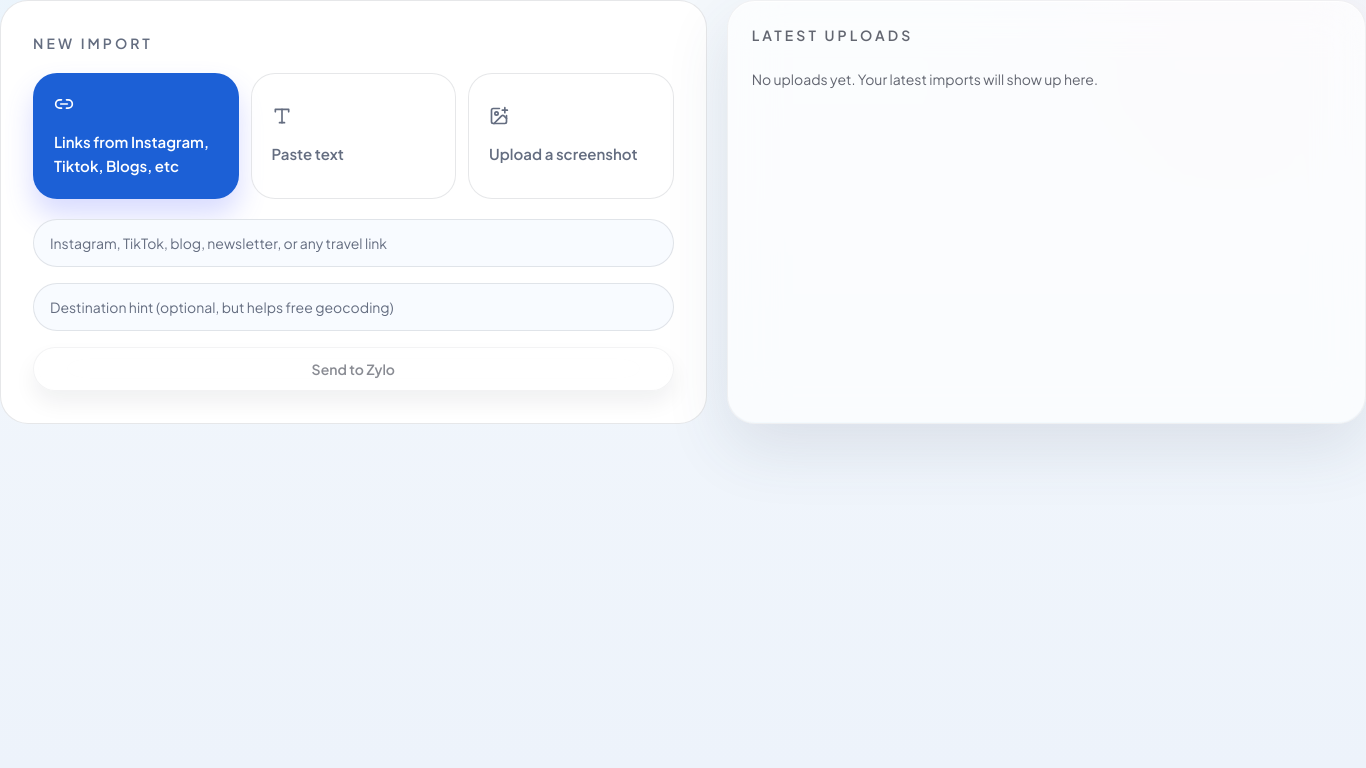
Test: ImportWorkbench › submits imports and shows the success state
Click the button "Paste text" at x=353, y=136, box [250,73,456,199]
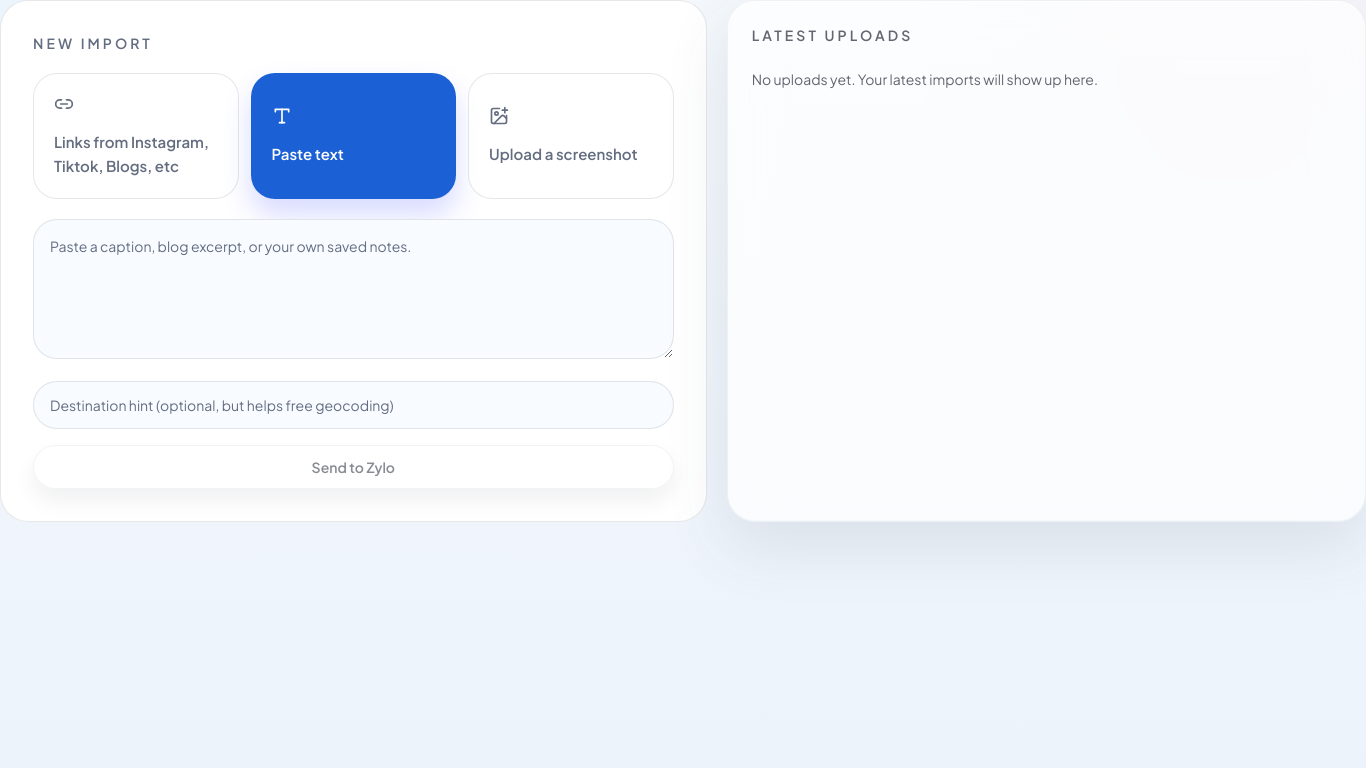
Type "Kyoto food guide: Men-ya Inoichi and % Arabica Kyoto Higashiyama." into the text box with placeholder "Paste a caption, blog excerpt, or your own saved notes." at x=353, y=289, box [33,219,674,359]
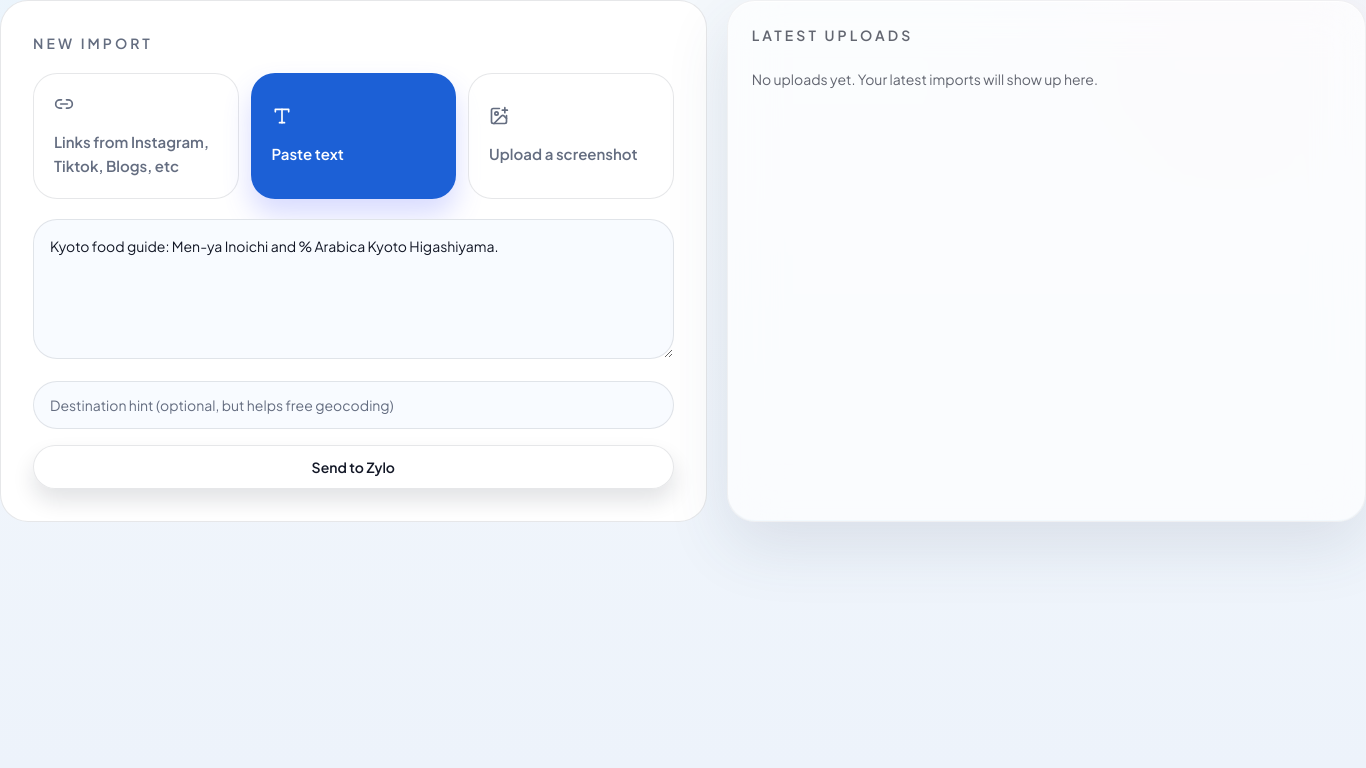
Type "Kyoto" into the field with placeholder "Destination hint (optional, but helps free geocoding)" at x=353, y=405, box [33,381,674,429]
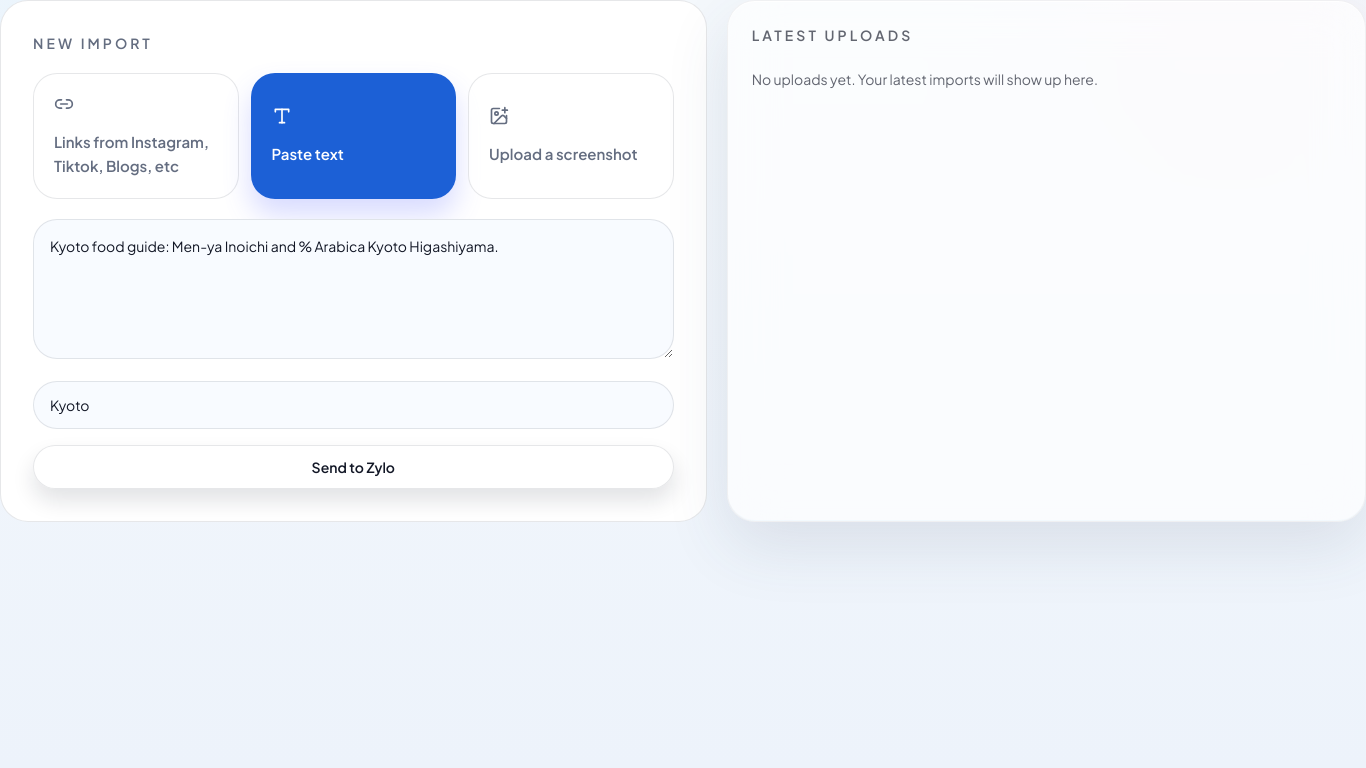
Click the button "Send to Zylo" at x=353, y=467, box [33,445,674,489]
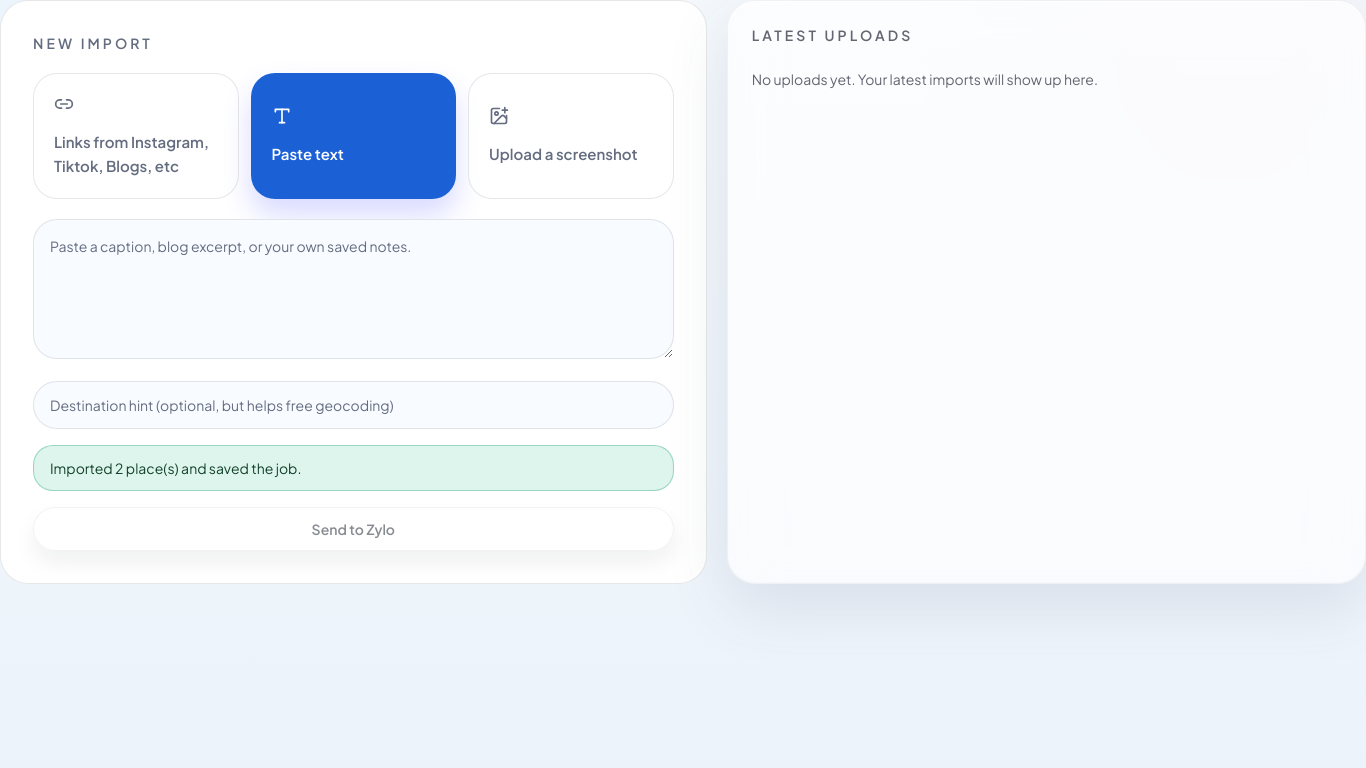
Now the text "Imported 2 place(s) and saved the job." is shown, box [50,458,302,478]
